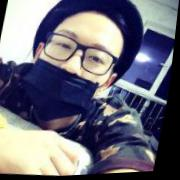WRONG: (22, 22, 124, 128)
